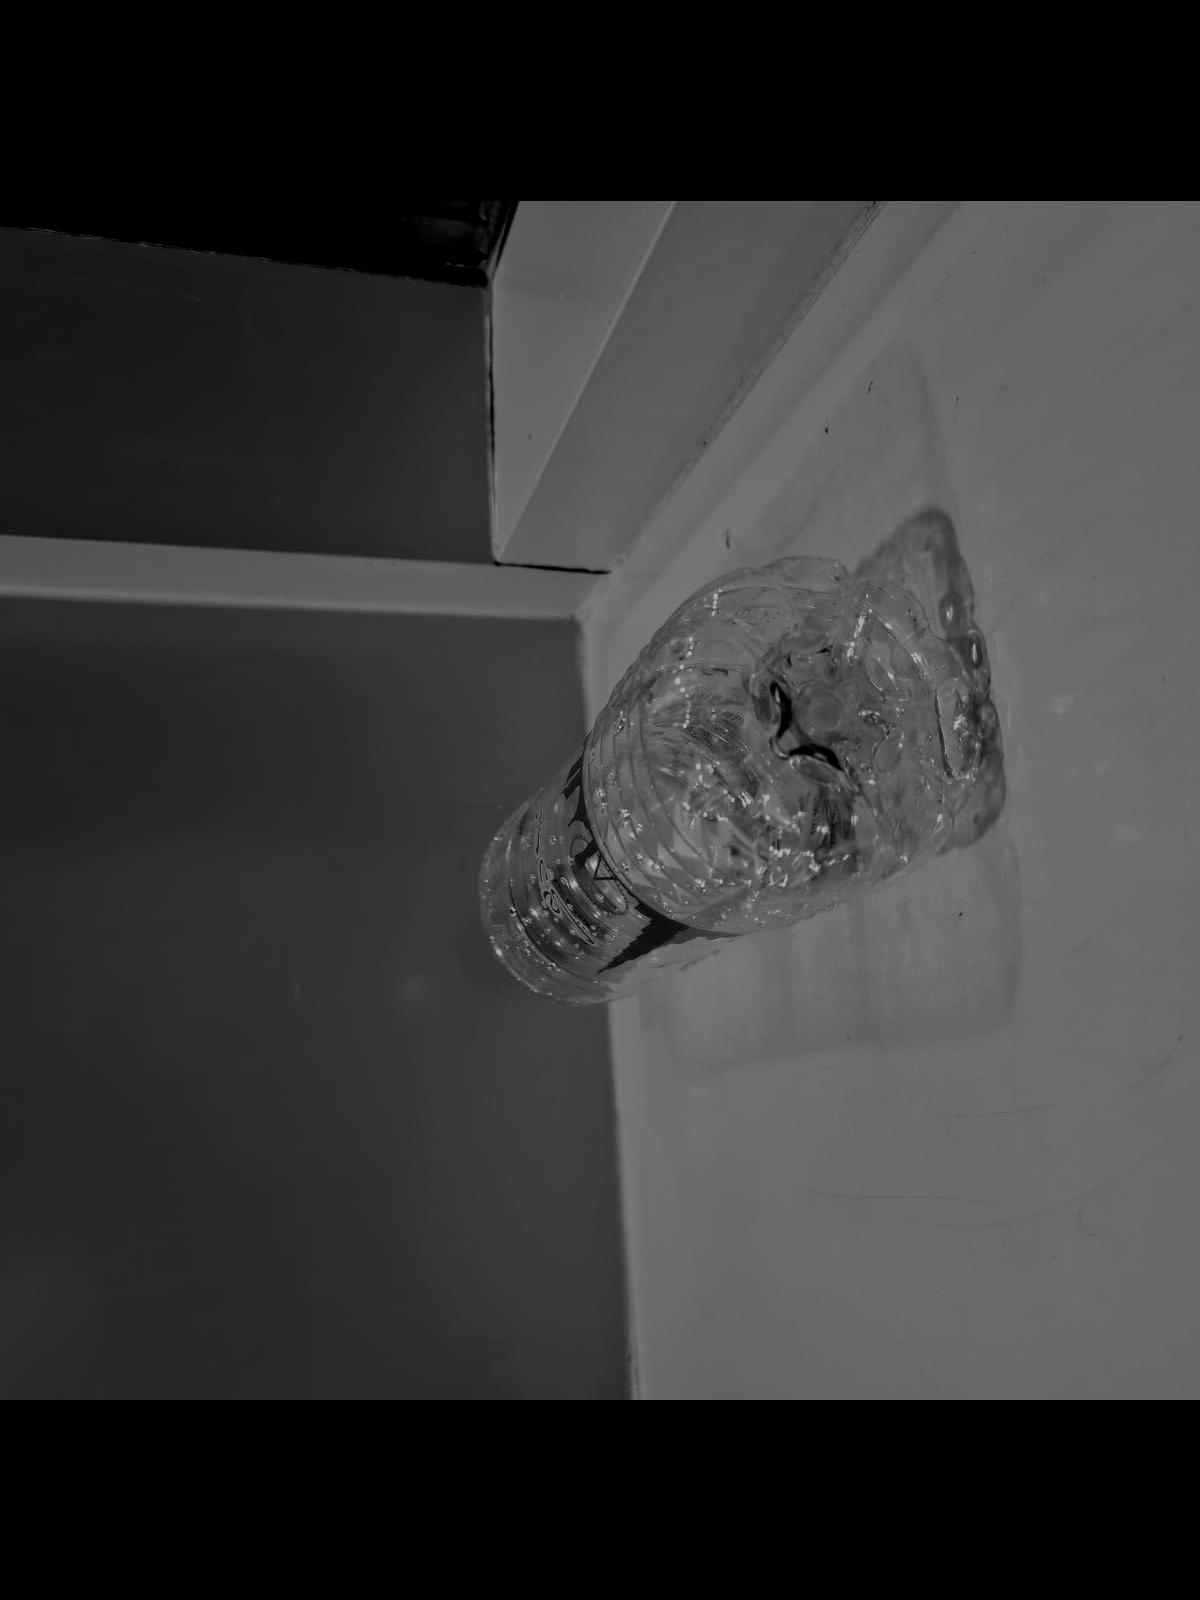bottle: (460, 558, 967, 1047)
